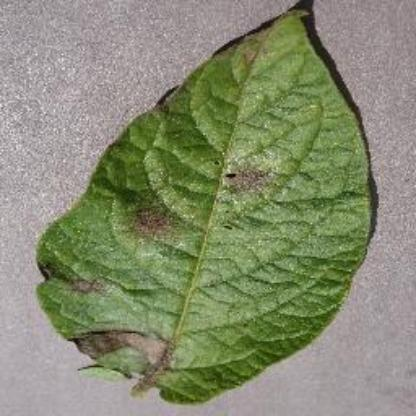Late-Blight: (26, 6, 406, 408)
